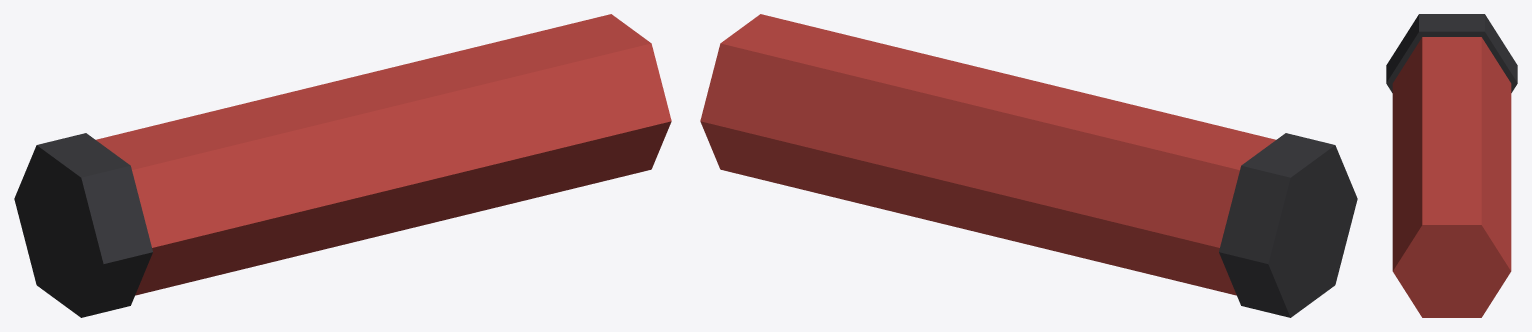
The model's file is tool_tube_lod2.glb.
The picture shows the model from 3 angles, left to right: view 1: azimuth 30°, elevation 25°; view 2: azimuth 150°, elevation 25°; view 3: azimuth 270°, elevation 25°; orthographic projection. The views are drawn at different scales.
Parts seen in each view (by area): view 1: tool_tube_lod2; view 2: tool_tube_lod2; view 3: tool_tube_lod2.
Boxes of the visible parts, left/top/right/bottom form: tool_tube_lod2: left=14, top=14, right=671, bottom=317; tool_tube_lod2: left=700, top=14, right=1357, bottom=317; tool_tube_lod2: left=1386, top=14, right=1517, bottom=317.
Bounding box in the file's own units: 0.37 × 0.0866 × 0.1.
